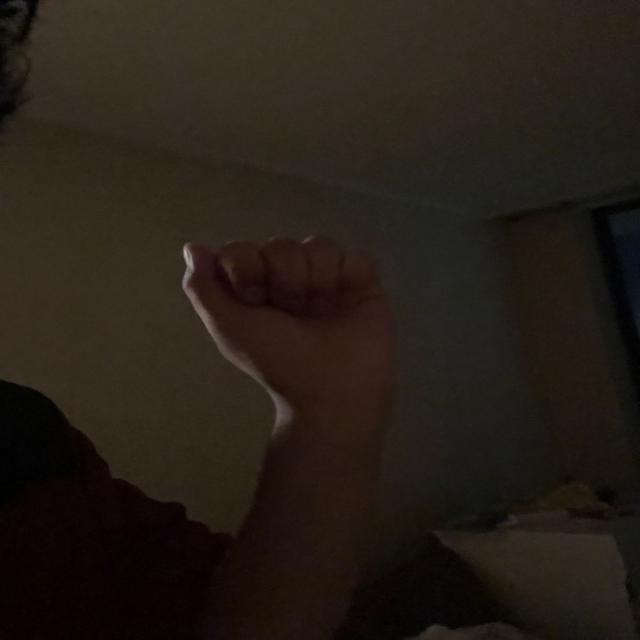A: (170, 225, 414, 414)
